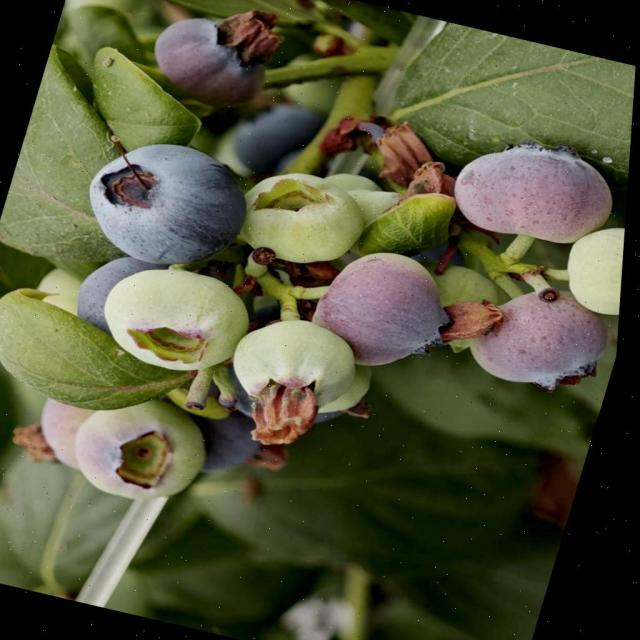RipeBlueBerry: (76, 124, 261, 270)
Semi-RipeBlueBerry: (301, 234, 467, 377), (447, 129, 627, 253), (465, 277, 623, 396), (144, 0, 282, 110)
UnripeBlueBerry: (89, 255, 254, 379), (67, 391, 221, 510), (224, 309, 370, 422), (455, 227, 482, 265)
